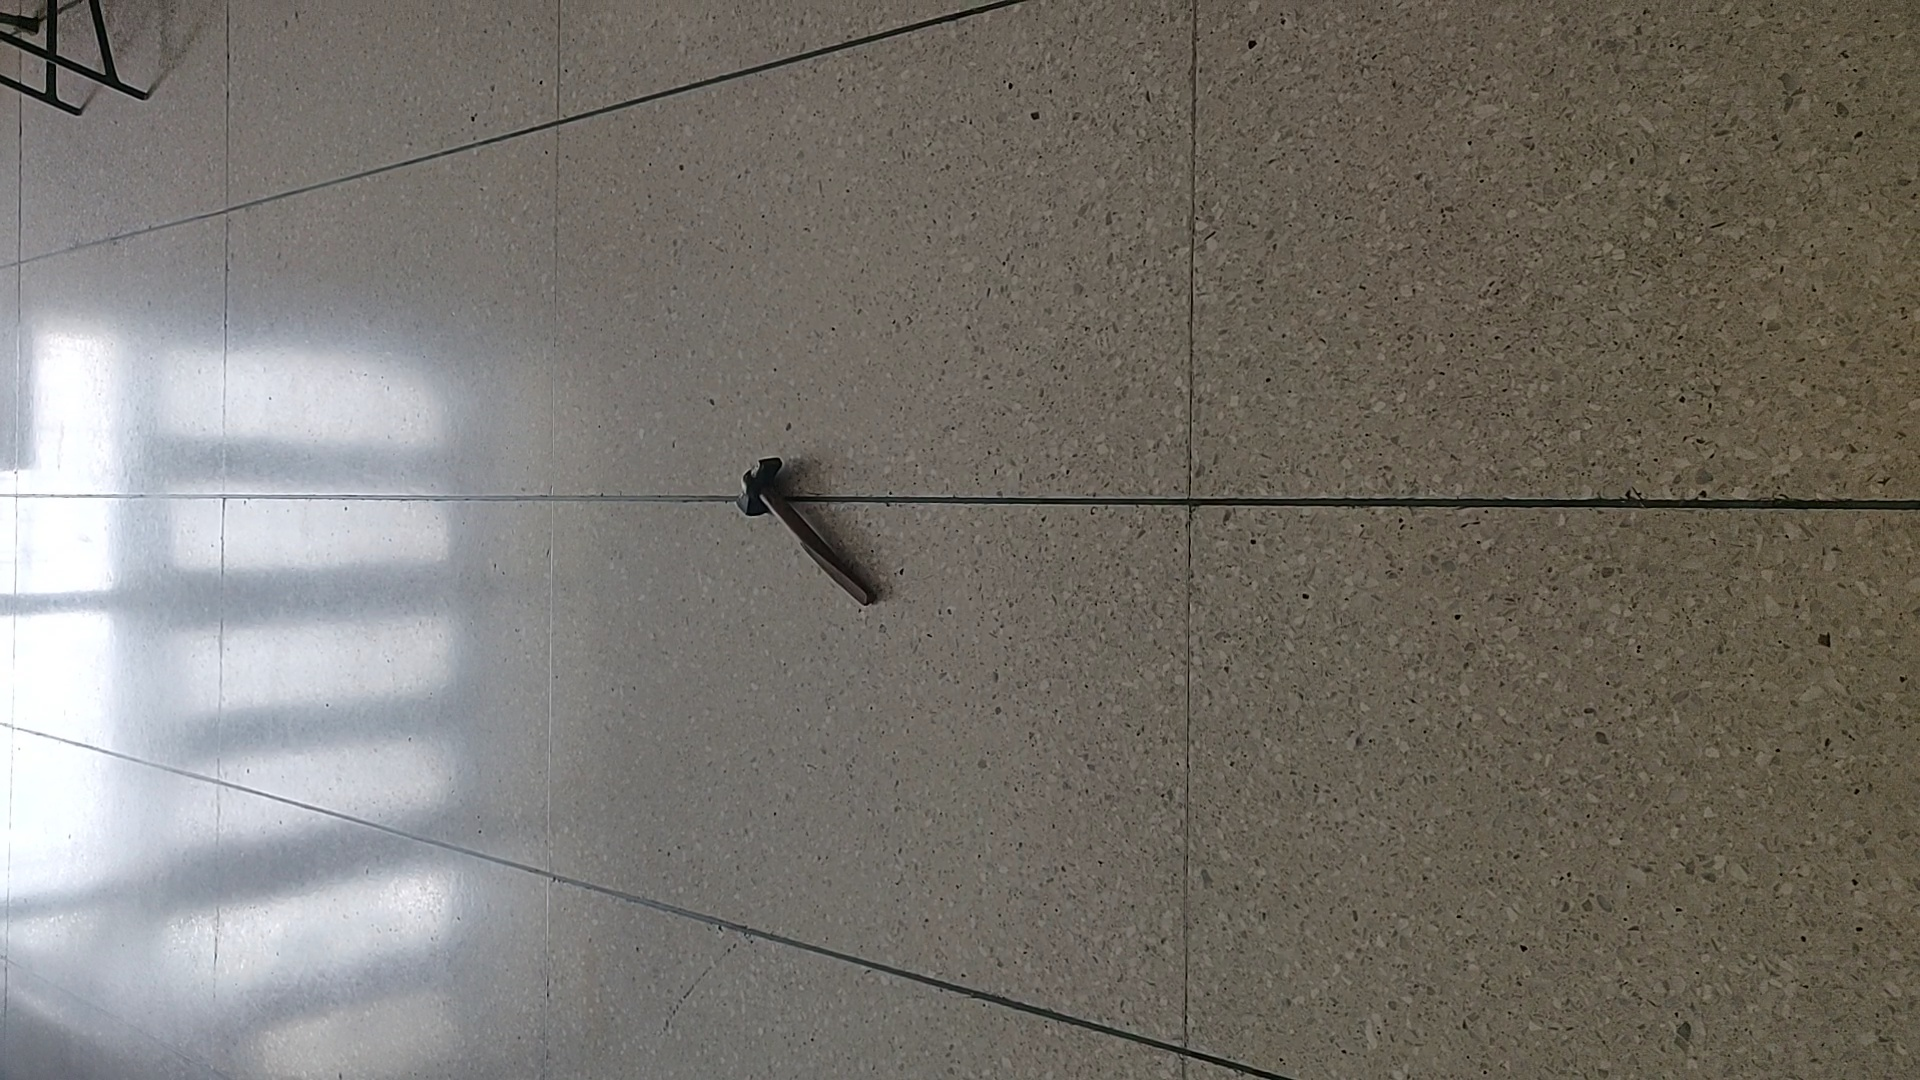hammer: (731, 454, 872, 612)
